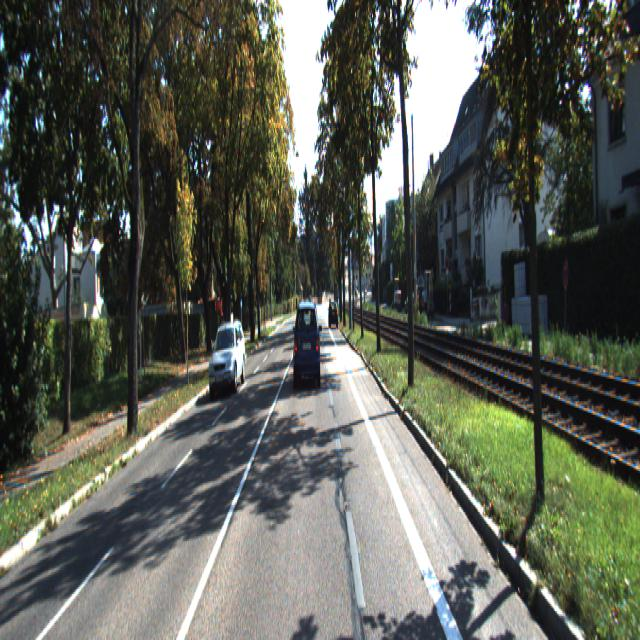Car: (208, 320, 245, 399), (293, 302, 322, 394), (328, 302, 338, 331)
